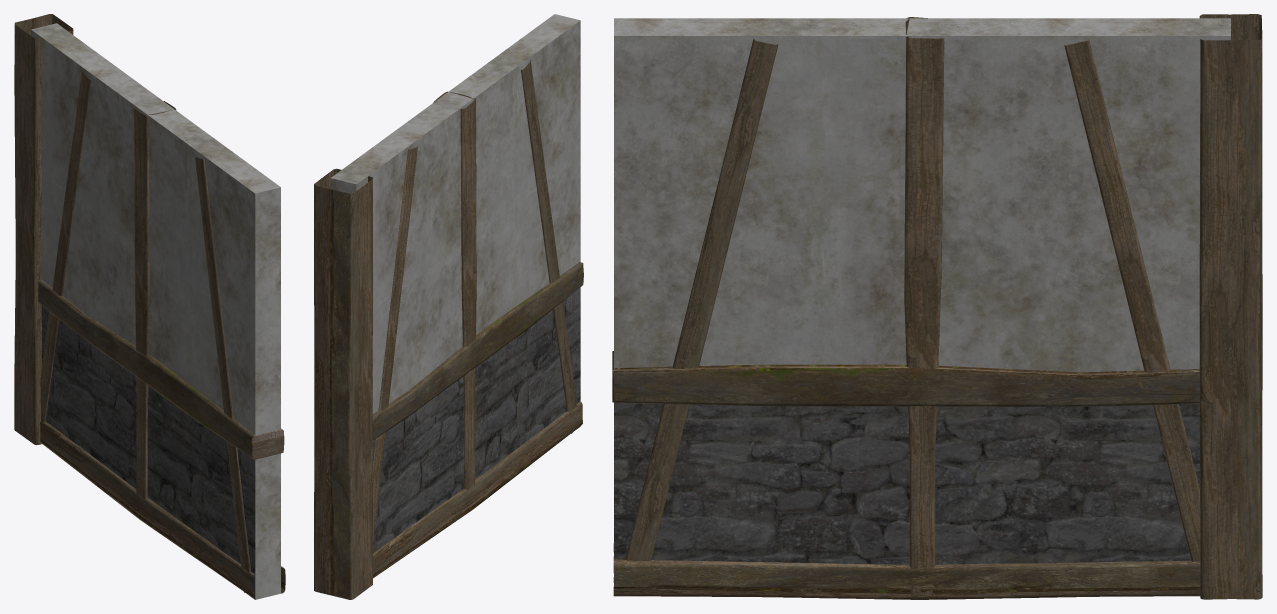
File: SM_Wall52.fbx
The picture shows the model from 3 angles, left to right: view 1: azimuth 30°, elevation 25°; view 2: azimuth 150°, elevation 25°; view 3: azimuth 270°, elevation 25°; orthographic projection. The views are drawn at different scales.
Visible parts, largest first — view 1: SM_Wall52_LOD0; view 2: SM_Wall52_LOD0; view 3: SM_Wall52_LOD0.
Part boxes in pixels (x1,y1,x2,y2): SM_Wall52_LOD0: (14, 14, 285, 599); SM_Wall52_LOD0: (314, 14, 583, 599); SM_Wall52_LOD0: (612, 14, 1262, 599).
Size of the model in its own units: 30.71 by 316 by 303.
